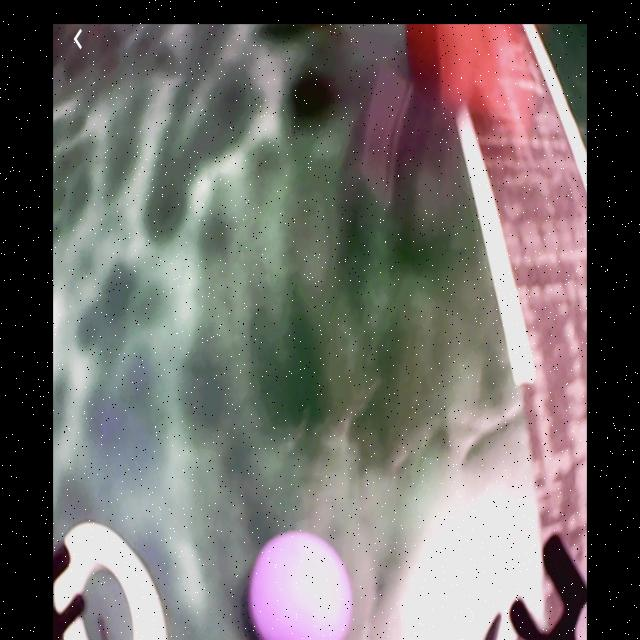ball: (248, 530, 352, 638)
